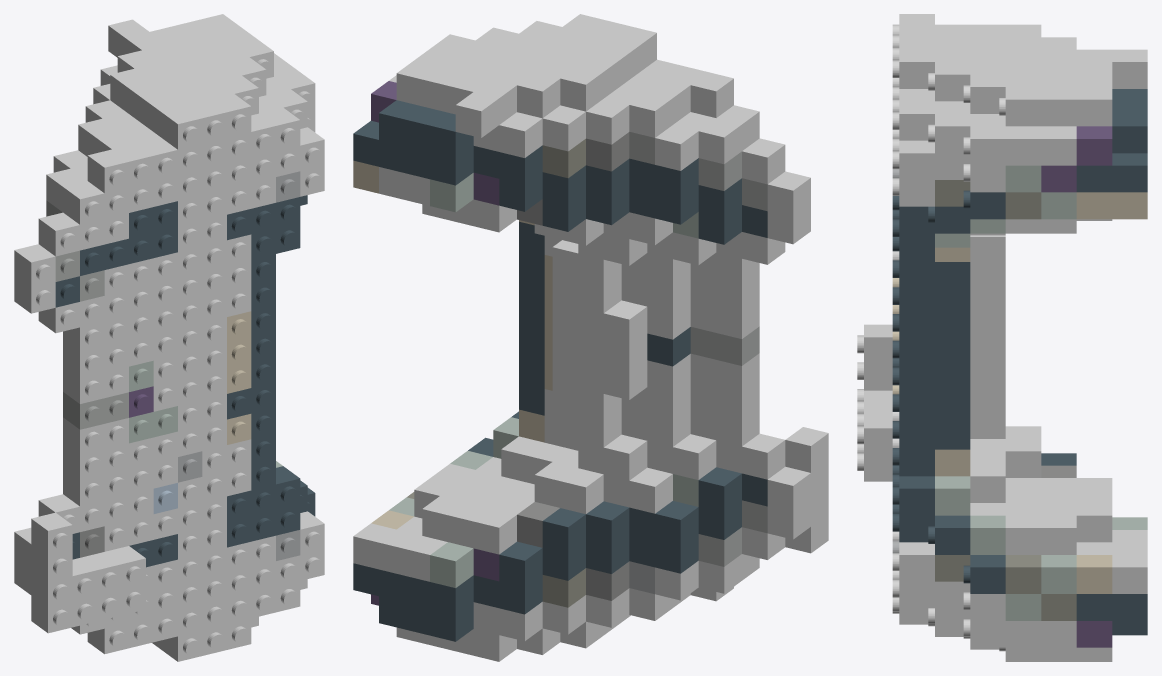
Rendered from full.glb.
The picture shows the model from 3 angles, left to right: view 1: azimuth 30°, elevation 25°; view 2: azimuth 150°, elevation 25°; view 3: azimuth 270°, elevation 25°; orthographic projection. The views are drawn at different scales.
Parts seen in each view (by area): view 1: world; view 2: world; view 3: world.
Part boxes in pixels (x1,y1,x2,y2): world: (14, 14, 324, 661); world: (353, 14, 828, 661); world: (857, 14, 1147, 661).
Size of the model in its own units: 104 by 168 by 78.6.
